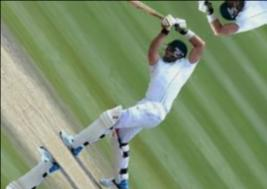batsman: (50, 4, 210, 189)
